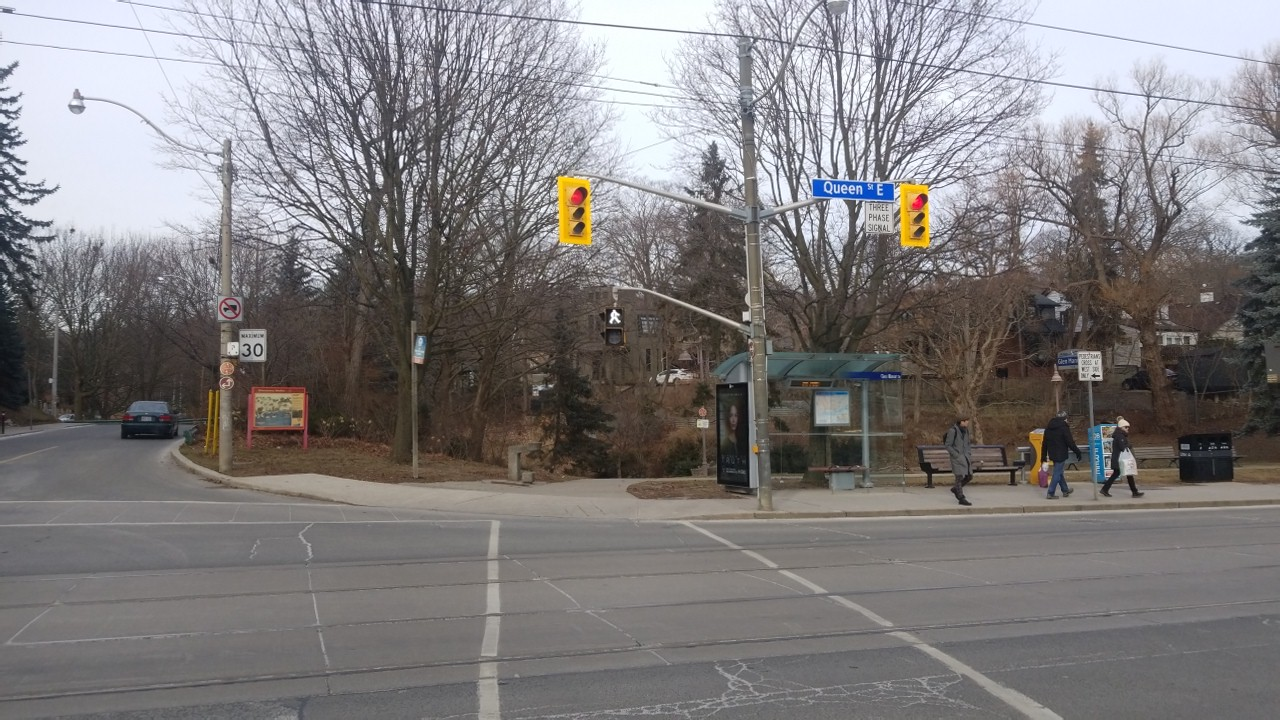light: (599, 296, 629, 360)
